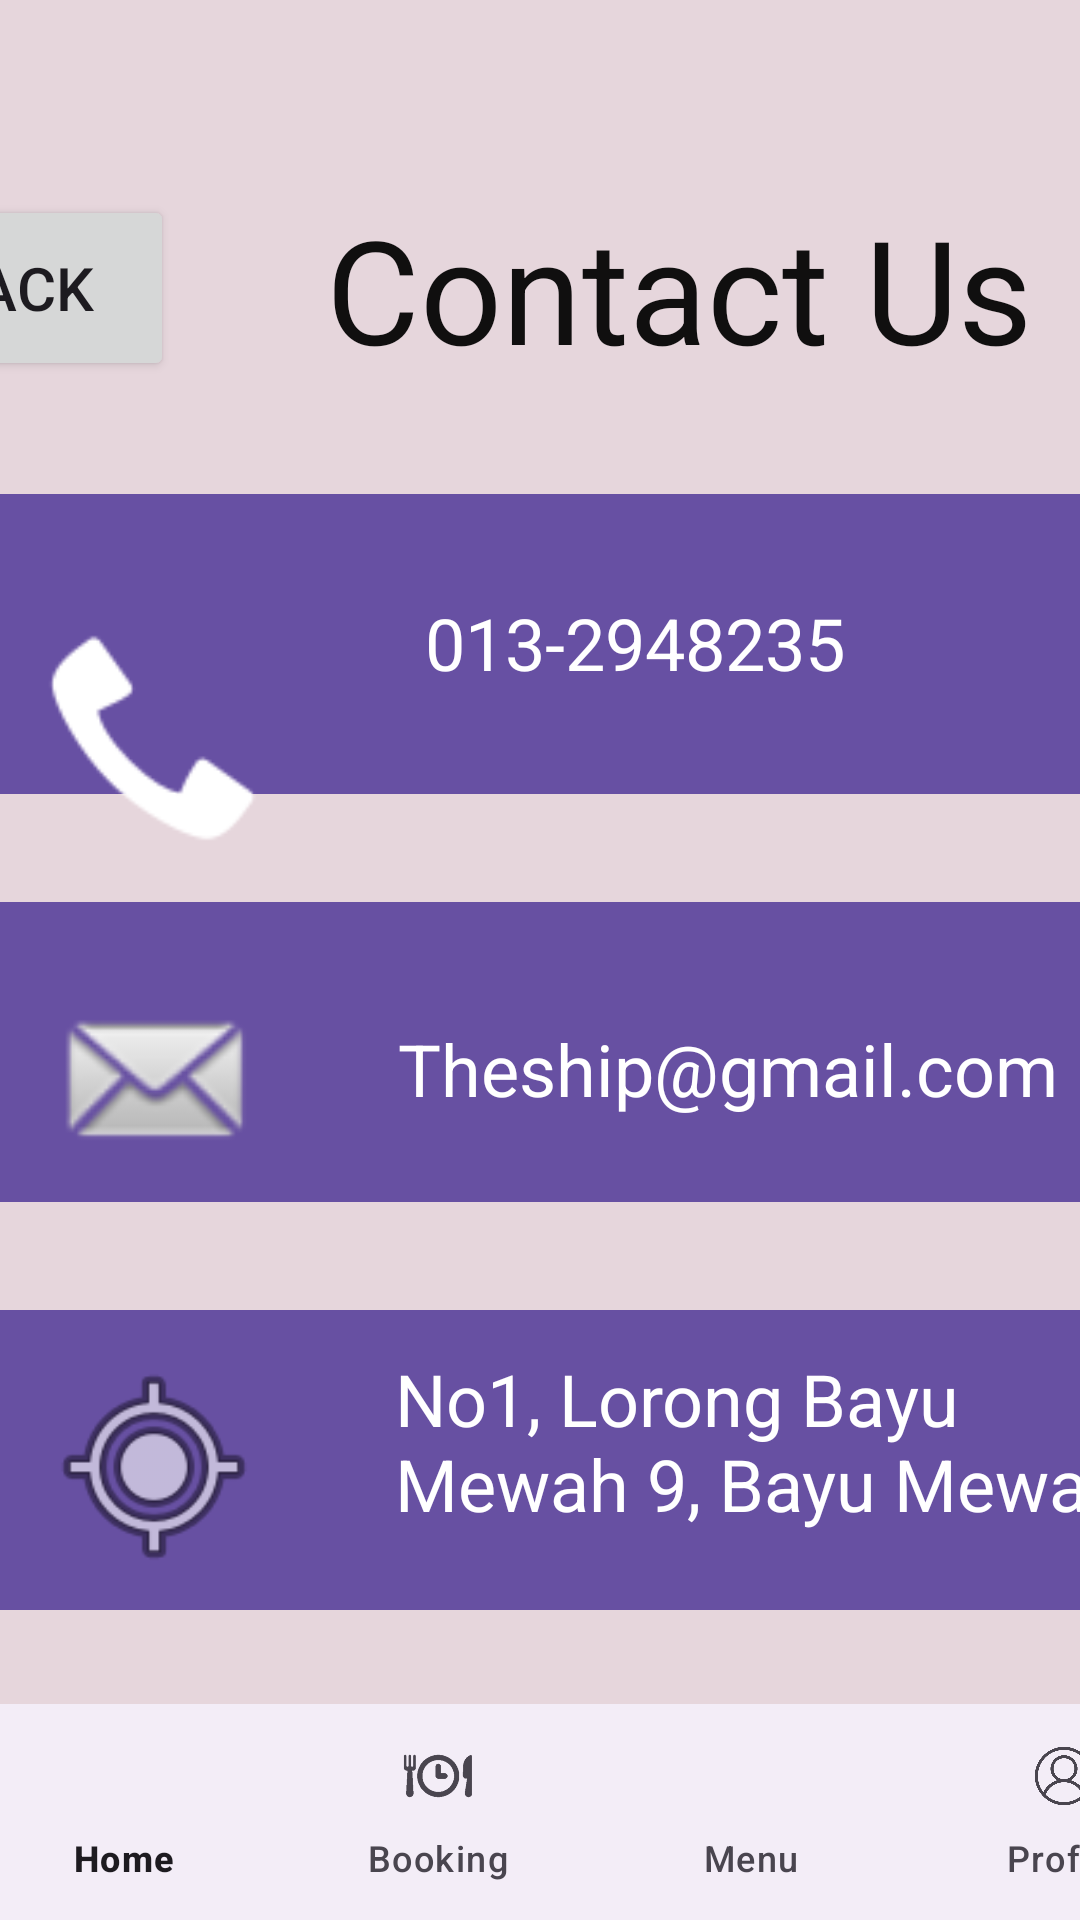

Screen size 1080 × 1920. Icon name, then its box in pixels as (x1, y1, x2, y2):
mylocation: (63, 1376, 245, 1558)
phone call: (40, 636, 268, 867)
sym action email: (67, 1021, 243, 1137)
